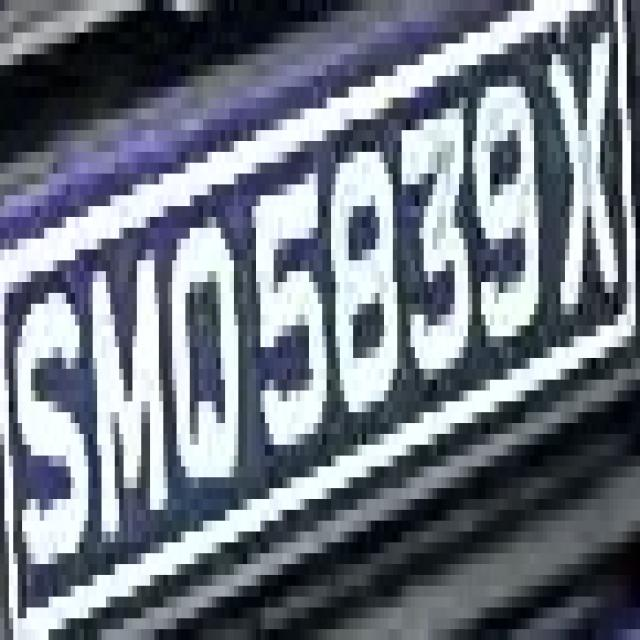3: (402, 76, 472, 412)
5: (252, 152, 326, 488)
8: (322, 119, 411, 423)
9: (459, 65, 547, 347)
M: (93, 228, 172, 553)
Q: (155, 195, 247, 532)
S: (13, 238, 84, 608)
X: (539, 22, 631, 336)
